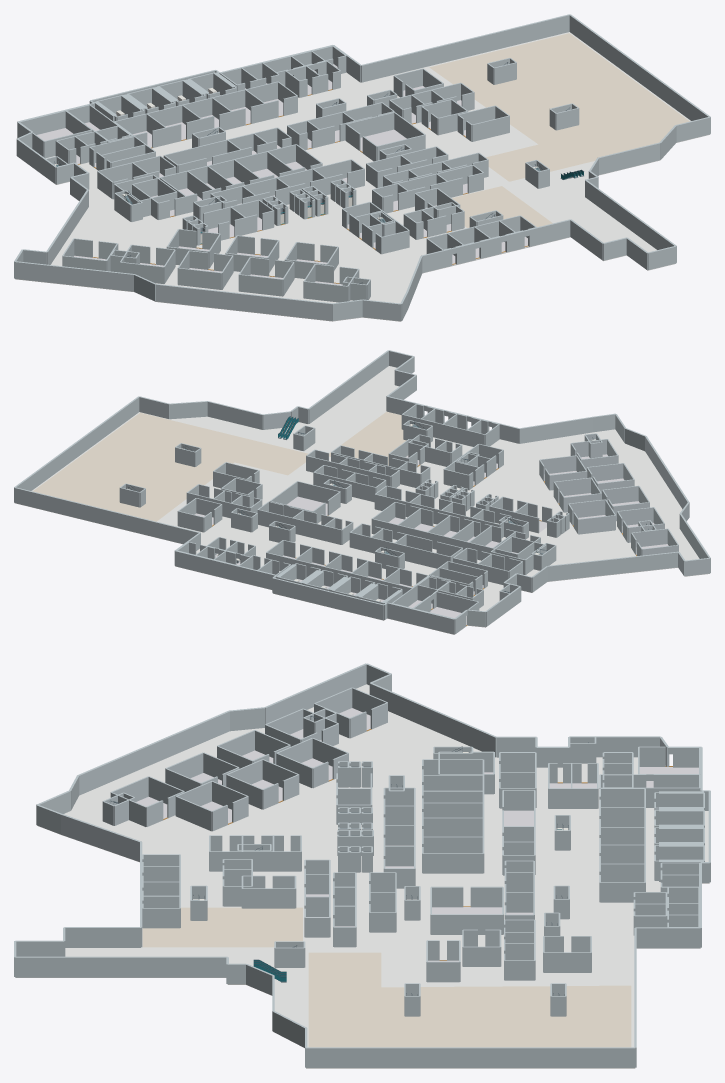
File: dushu-B1.glb
3 renders of one model, top to bottom at view 1: azimuth 30°, elevation 25°; view 2: azimuth 150°, elevation 25°; view 3: azimuth 270°, elevation 25°, orthographic. The views are drawn at different scales.
Parts seen in each view (by area): view 1: Floor slab, 图示东侧停车区（车位线不作为墙）, wall-6, wall-24, wall-7, wall-26, 图示地下停车区, wall-14, wall-19 (×2), wall-10, wall-29, wall-148 (+16 smaller); view 2: Floor slab, 图示东侧停车区（车位线不作为墙）, wall-6, wall-29, wall-7, wall-2, 图示地下停车区, wall-4, wall-14, wall-20, wall-0, wall-10 (+17 smaller); view 3: Floor slab, 图示东侧停车区（车位线不作为墙）, wall-7, 图示地下停车区, wall-14, wall-24, wall-29, wall-26, wall-20, wall-18, wall-5, wall-327 (+35 smaller).
Part boxes in pixels (x1=…): Floor slab: x1=15, y1=32, x2=709, y2=321; 图示东侧停车区（车位线不作为墙）: x1=429, y1=33, x2=689, y2=181; wall-6: x1=361, y1=14, x2=569, y2=82; wall-24: x1=155, y1=284, x2=332, y2=320; wall-7: x1=569, y1=14, x2=710, y2=133; wall-26: x1=14, y1=261, x2=134, y2=291; 图示地下停车区: x1=436, y1=186, x2=552, y2=244; wall-14: x1=585, y1=180, x2=676, y2=262; wall-19 (×2): x1=421, y1=219, x2=570, y2=272; wall-10: x1=598, y1=142, x2=660, y2=174; wall-29: x1=46, y1=189, x2=88, y2=264; wall-148: x1=164, y1=139, x2=227, y2=164; Floor slab: x1=15, y1=366, x2=709, y2=634; 图示东侧停车区（车位线不作为墙）: x1=33, y1=412, x2=308, y2=521; wall-6: x1=14, y1=487, x2=200, y2=543; wall-29: x1=547, y1=551, x2=678, y2=581; wall-7: x1=14, y1=396, x2=139, y2=501; wall-2: x1=272, y1=577, x2=383, y2=620; 图示地下停车区: x1=329, y1=411, x2=406, y2=465; wall-4: x1=175, y1=550, x2=276, y2=589; wall-14: x1=308, y1=350, x2=388, y2=423; wall-20: x1=519, y1=417, x2=592, y2=443; wall-0: x1=387, y1=602, x2=454, y2=634; wall-10: x1=207, y1=401, x2=262, y2=429; Floor slab: x1=15, y1=684, x2=709, y2=1068; 图示东侧停车区（车位线不作为墙）: x1=308, y1=952, x2=631, y2=1047; wall-7: x1=306, y1=1047, x2=635, y2=1067; 图示地下停车区: x1=142, y1=907, x2=302, y2=947; wall-14: x1=15, y1=956, x2=227, y2=977; wall-24: x1=77, y1=710, x2=229, y2=795; wall-29: x1=369, y1=683, x2=496, y2=757; wall-26: x1=265, y1=663, x2=366, y2=723; wall-20: x1=61, y1=814, x2=141, y2=861; wall-18: x1=64, y1=927, x2=140, y2=947; wall-5: x1=635, y1=927, x2=700, y2=948; wall-327: x1=431, y1=914, x2=502, y2=934.
Size of the model in its own units: 134 by 3.96 by 102.
